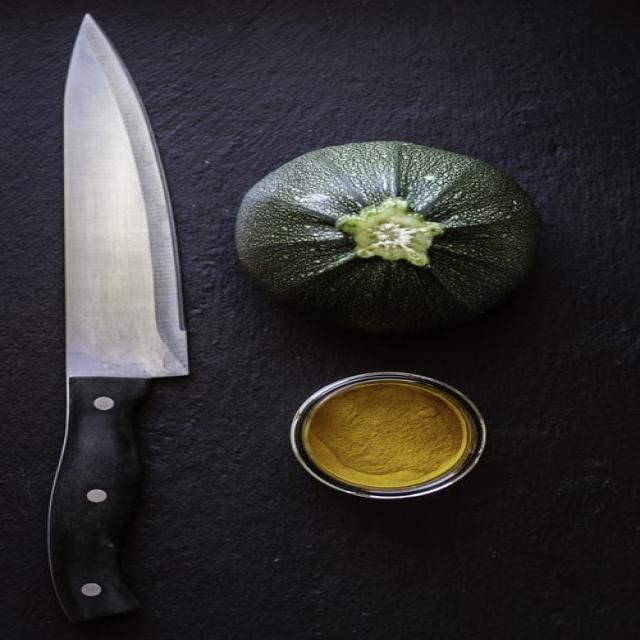faca: (20, 7, 266, 631)
